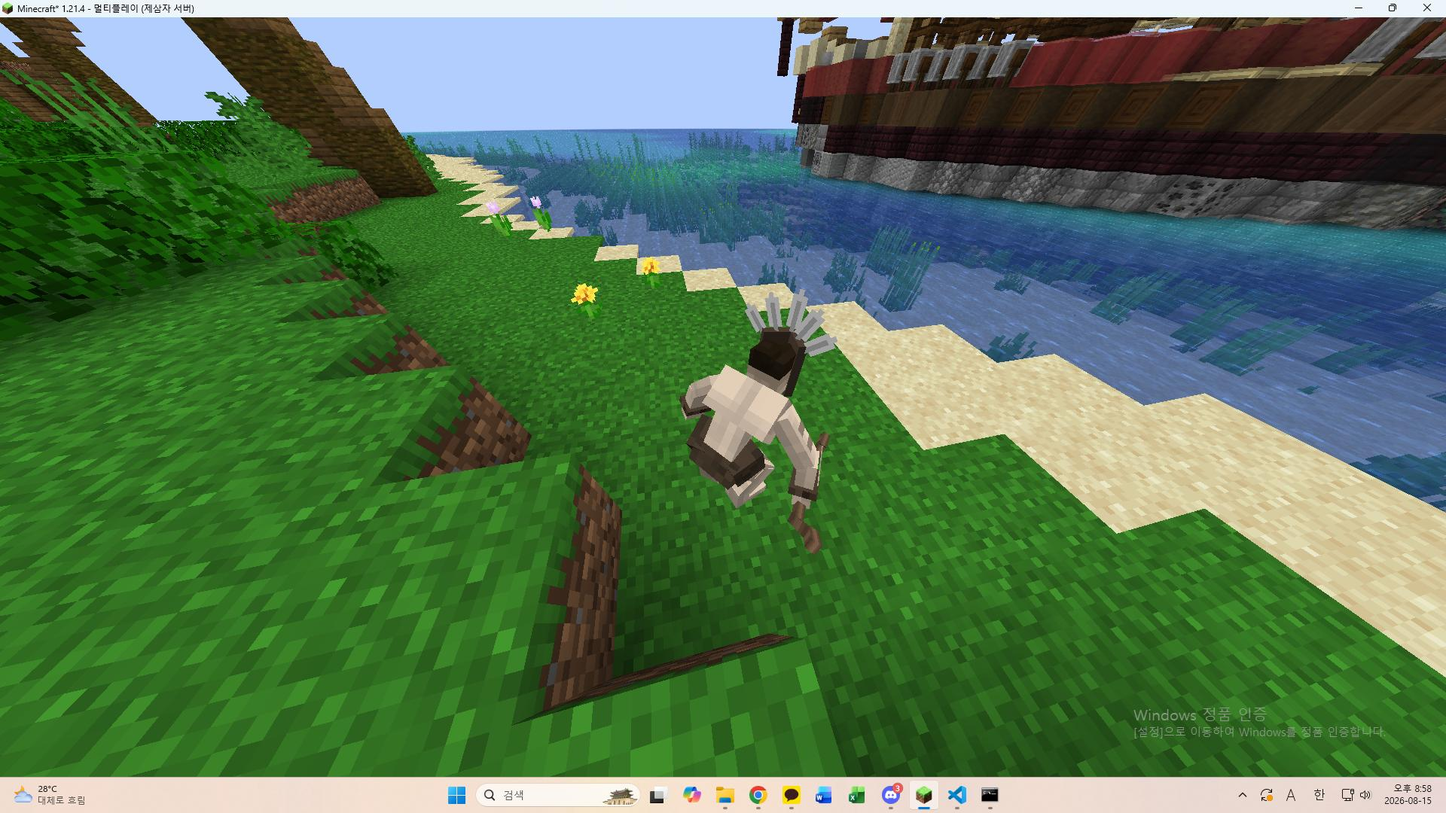bow_indian: (649, 294, 906, 562)
